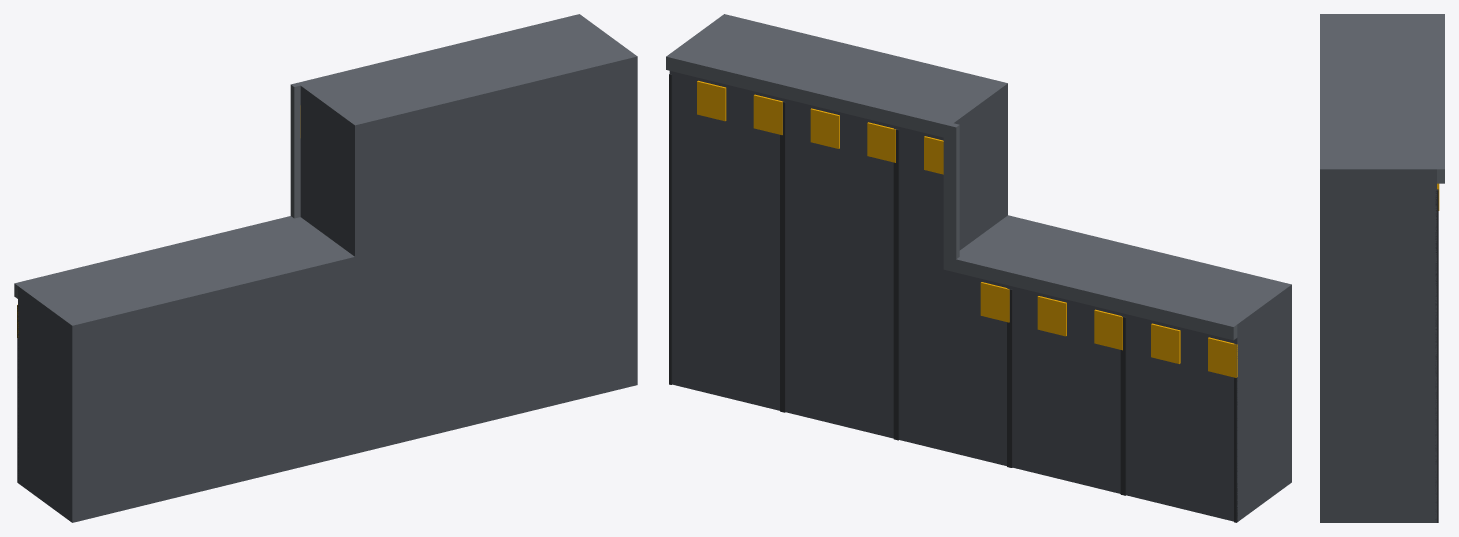
3 renders of one model, left to right at view 1: azimuth 30°, elevation 25°; view 2: azimuth 150°, elevation 25°; view 3: azimuth 270°, elevation 25°, orthographic. The views are drawn at different scales.
Parts seen in each view (by area): view 1: k2w; view 2: k2w; view 3: k2w.
Part boxes in pixels (left/top/right/bottom): k2w: left=14, top=14, right=637, bottom=522; k2w: left=666, top=14, right=1291, bottom=522; k2w: left=1320, top=14, right=1444, bottom=522.
Size of the model in its own units: 9 by 5 by 1.6.
